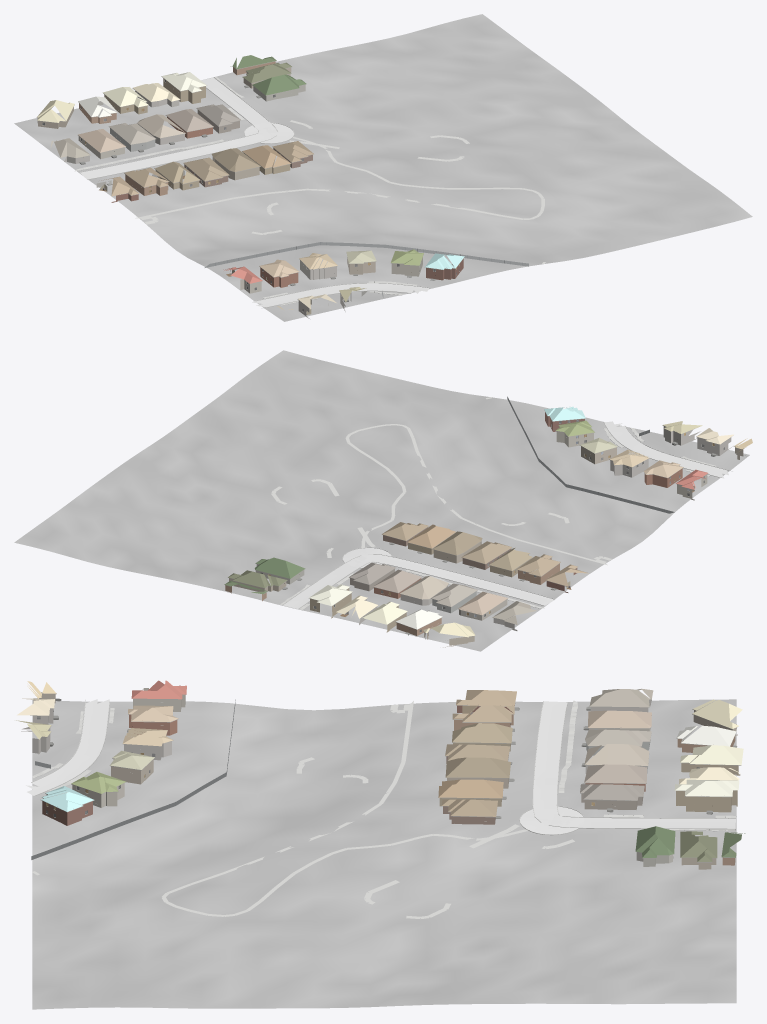
3 renders of one model, top to bottom at view 1: azimuth 30°, elevation 25°; view 2: azimuth 150°, elevation 25°; view 3: azimuth 270°, elevation 25°, orthographic. The views are drawn at different scales.
Visible parts, largest first — view 1: ground, roof, concrete, wall, walk, wall_stucco, detail, chain, wall_stone, curb; view 2: ground, roof, concrete, wall, walk, wall_stucco, detail, wall_stone, curb, chain; view 3: ground, roof, concrete, wall, walk, wall_stucco, detail, wall_stone, curb, chain.
Part boxes in pixels (x1,y1,x2,y2): ground: (14,14,752,321); roof: (37,55,464,309); concrete: (80,77,429,307); wall: (37,61,463,287); walk: (74,77,545,305); wall_stucco: (78,84,422,293); detail: (37,61,522,313); chain: (204,242,528,297); wall_stone: (64,91,351,318); curb: (78,77,429,308); ground: (14,350,749,651); roof: (224,406,752,637); concrete: (283,421,728,608); wall: (225,412,682,647); walk: (271,397,715,609); wall_stucco: (255,427,743,620); detail: (224,402,745,640); wall_stone: (359,426,732,630); curb: (282,422,732,609); chain: (507,396,674,513); ground: (32,699,736,1009); roof: (16,680,745,861); concrete: (26,699,735,834); wall: (42,705,740,869); walk: (32,700,735,918); wall_stucco: (33,688,673,866); detail: (30,689,741,862); wall_stone: (21,699,651,773); curb: (31,699,735,835); chain: (31,699,235,859).
Size of the model in its own units: 255 by 13.57 by 262.
